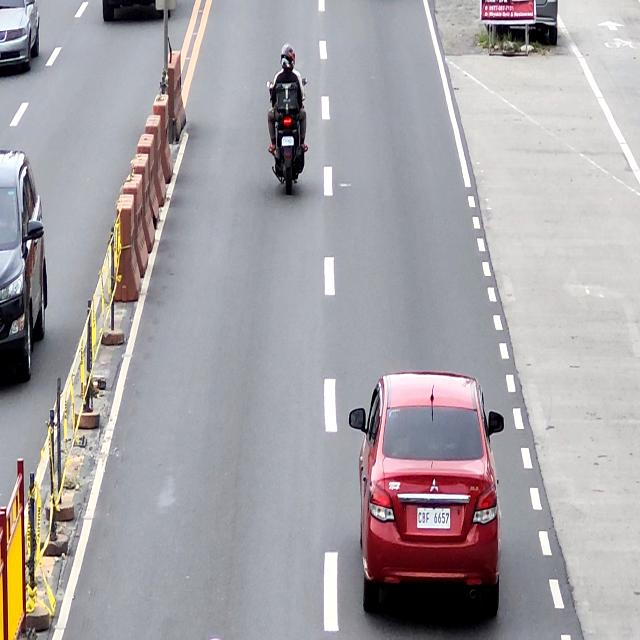Car: (347, 374, 504, 616)
License-Plate: (416, 506, 452, 528), (281, 135, 294, 146)
Motorcycle: (266, 76, 308, 194)
